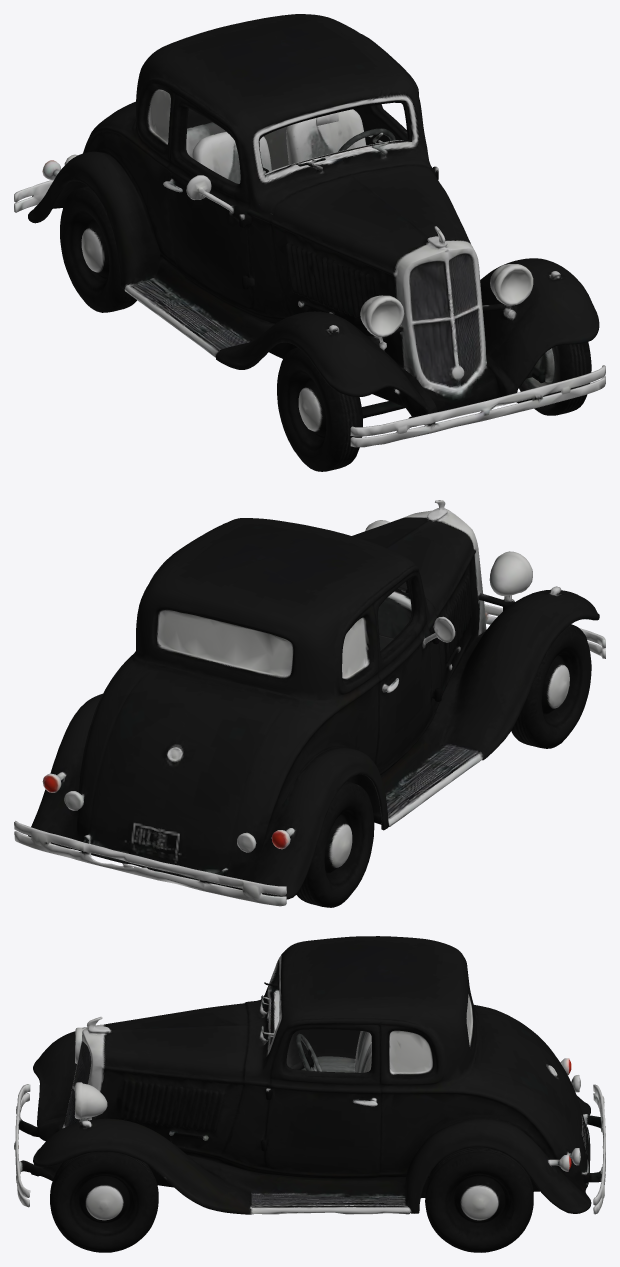
Rendered from 077_gangster_30s_black.glb.
3 views of the same model, one above another, from view 1: azimuth 30°, elevation 25°; view 2: azimuth 150°, elevation 25°; view 3: azimuth 270°, elevation 25° (orthographic). The views are drawn at different scales.
Visible parts, largest first — view 1: geometry_0; view 2: geometry_0; view 3: geometry_0.
Part boxes in pixels (x1,y1,x2,y2): geometry_0: [14, 14, 605, 471]; geometry_0: [14, 500, 605, 907]; geometry_0: [14, 936, 605, 1252].
Bounding box in the file's own units: 2.22 × 2.11 × 4.8.
1 material, 1 textured.
